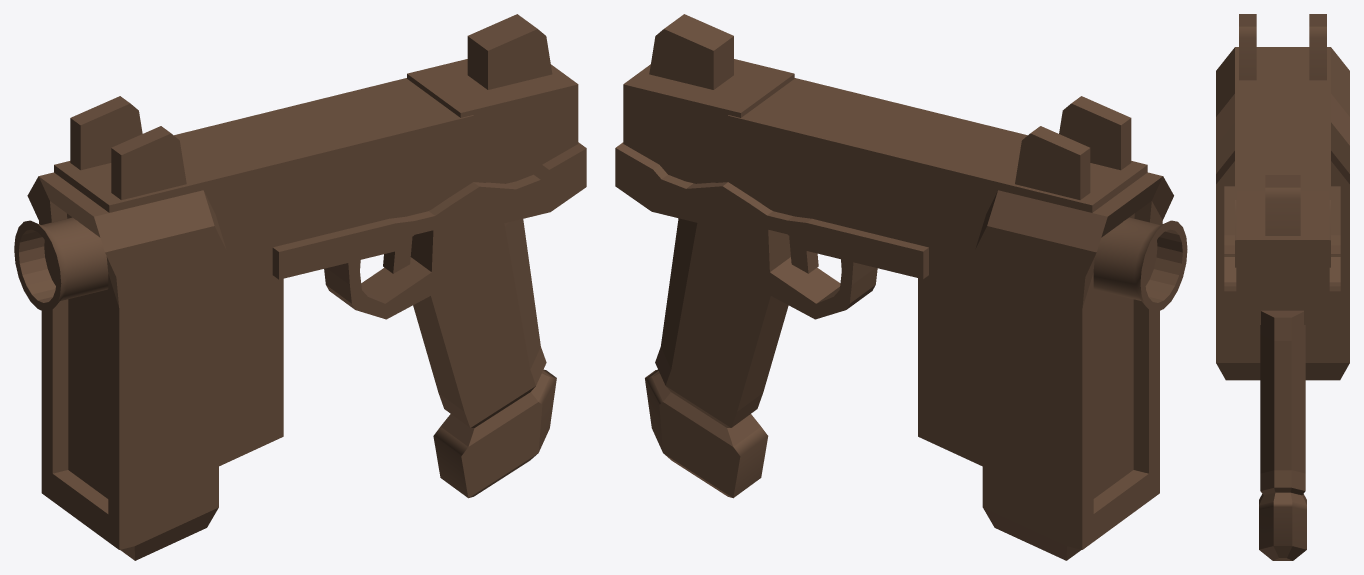
Rendered from Gunn01.fbx.
3 renders of one model, left to right at view 1: azimuth 30°, elevation 25°; view 2: azimuth 150°, elevation 25°; view 3: azimuth 270°, elevation 25°, orthographic. The views are drawn at different scales.
Parts seen in each view (by area): view 1: Gunn01; view 2: Gunn01; view 3: Gunn01.
Part boxes in pixels (left/top/right/bottom): Gunn01: left=14, top=14, right=586, bottom=560; Gunn01: left=615, top=14, right=1187, bottom=560; Gunn01: left=1216, top=14, right=1349, bottom=560.
Bounding box in the file's own units: 29.11 × 24.64 × 7.59.
